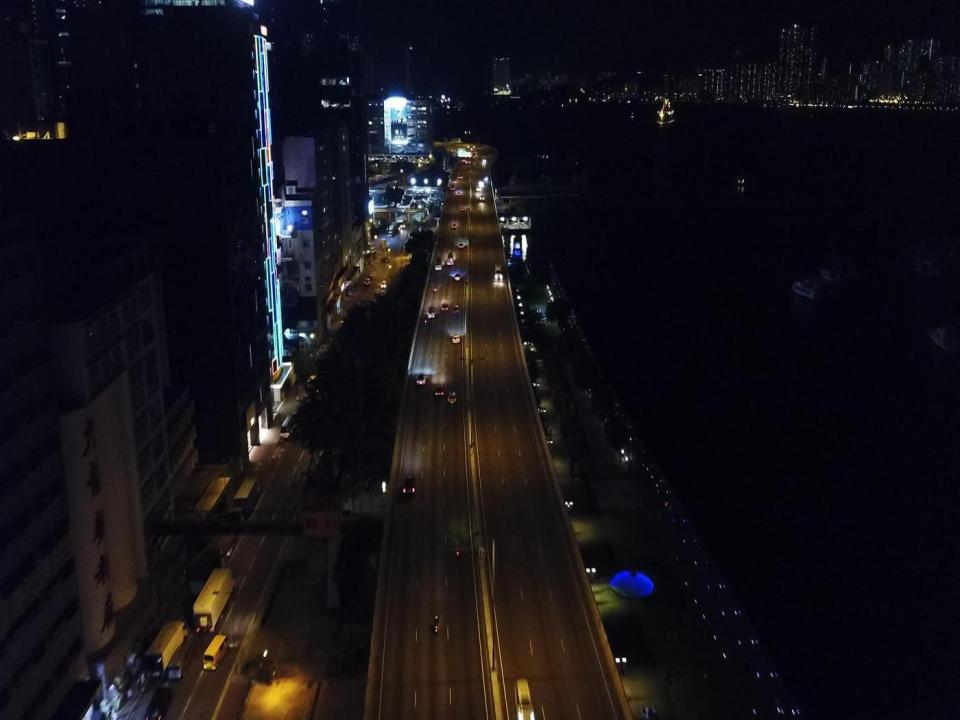bus: (434, 257, 442, 270), (447, 252, 454, 265)
car: (144, 687, 174, 719), (403, 476, 416, 497), (416, 373, 427, 386), (447, 391, 457, 404), (436, 385, 444, 398), (452, 334, 460, 344), (452, 305, 460, 314), (441, 302, 448, 312), (367, 247, 376, 254), (380, 280, 386, 288), (458, 243, 464, 249), (455, 273, 460, 280), (365, 278, 370, 285), (482, 157, 487, 163), (480, 179, 484, 186), (388, 231, 392, 238), (451, 224, 457, 228), (476, 185, 480, 191), (484, 175, 488, 181), (462, 206, 466, 211), (458, 175, 463, 179), (480, 196, 483, 200), (456, 192, 460, 195)
truck: (192, 567, 237, 634), (145, 619, 188, 678), (189, 547, 226, 598), (212, 506, 244, 560), (233, 476, 259, 514), (280, 414, 297, 438), (494, 262, 502, 280), (380, 238, 386, 250), (450, 182, 456, 190), (389, 224, 394, 233)
van: (204, 634, 230, 672), (168, 645, 192, 680), (428, 306, 435, 318)
